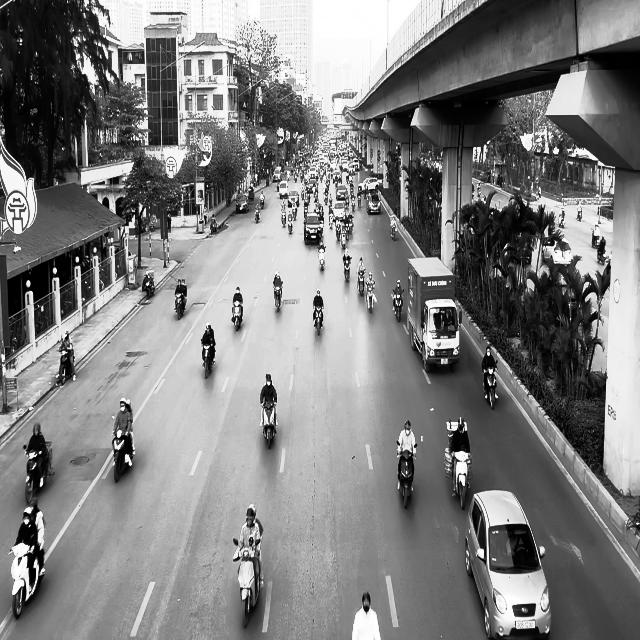car: (464, 489, 552, 639), (303, 212, 322, 245), (366, 192, 381, 214), (235, 193, 249, 213), (287, 190, 299, 207)
motorbike: (9, 540, 45, 619), (233, 537, 261, 627), (23, 442, 54, 504), (112, 411, 135, 483), (396, 442, 417, 508), (451, 448, 472, 510), (260, 398, 277, 449), (57, 348, 76, 386), (482, 364, 498, 409), (201, 339, 215, 379), (312, 303, 324, 335), (142, 270, 155, 299), (392, 288, 403, 322), (231, 300, 243, 331), (174, 292, 186, 320), (366, 284, 376, 313), (317, 240, 326, 270), (273, 284, 282, 312), (343, 255, 351, 282), (358, 269, 366, 295), (390, 218, 397, 240), (255, 204, 260, 223)
truck: (406, 255, 461, 373)
